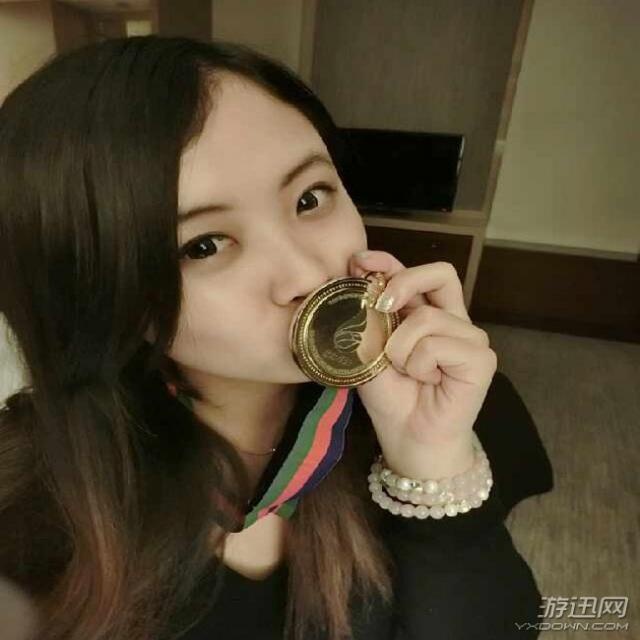nomask: (153, 91, 377, 380)
